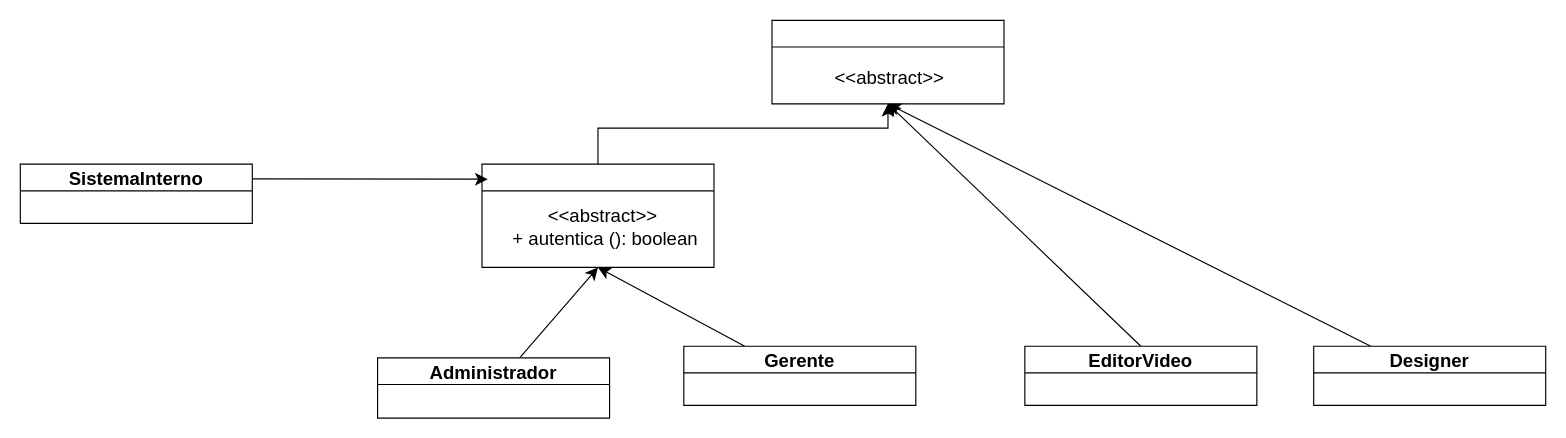
Image size: 1566x438. Some labels were removed from this diagram. Here are the shapes that lost their labels. From the top down, the box of each, then its label:
(771, 19, 1004, 104): Funcionario
(481, 163, 714, 267): FuncionarioAutenticavel
